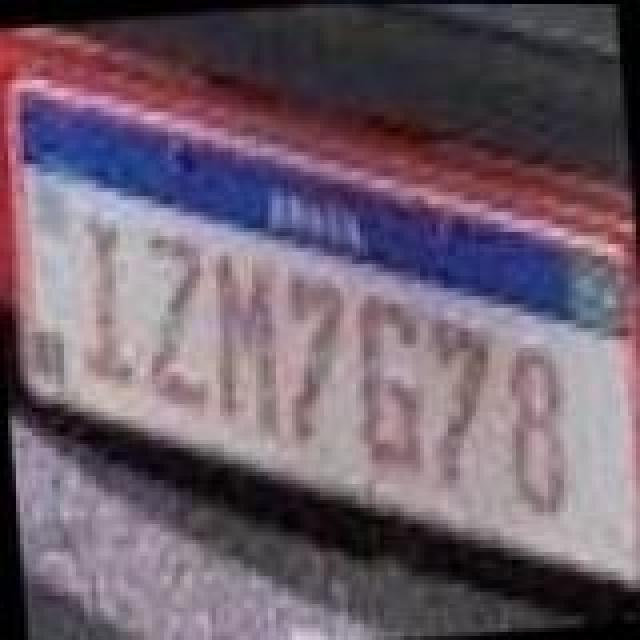7: (270, 264, 358, 444), (414, 308, 502, 488)
8: (494, 336, 570, 520)
G: (344, 278, 428, 474)
I: (66, 208, 134, 384)
M: (198, 242, 282, 438)
Z: (128, 226, 216, 414)
